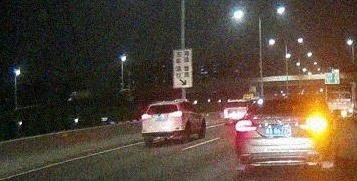L_light: (235, 119, 257, 132), (141, 114, 152, 120)
R_light: (304, 117, 326, 130), (170, 111, 183, 117)
T_light: (276, 98, 293, 102), (158, 104, 168, 107)
night-no: (141, 100, 183, 144)
night-right: (234, 92, 331, 174)
